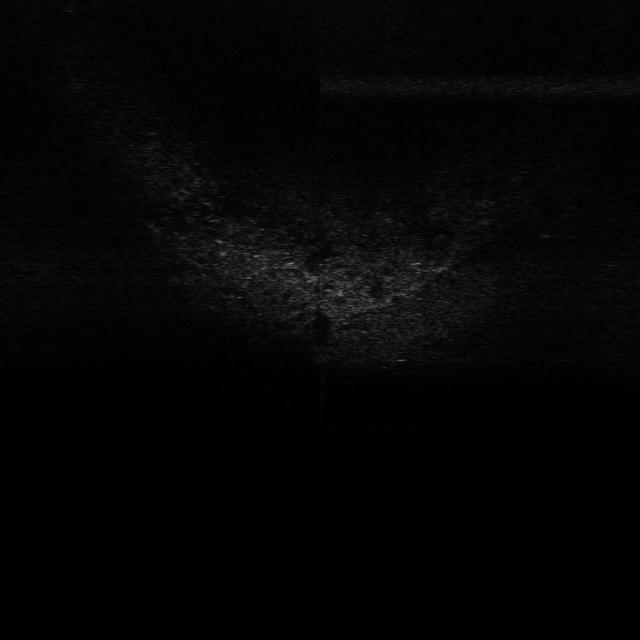cube: (307, 344, 333, 366)
